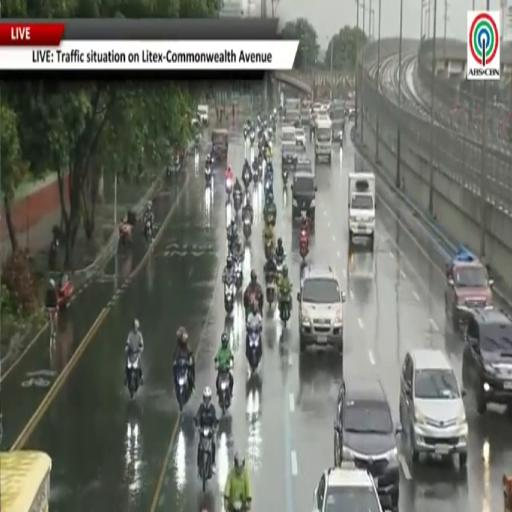bus: (0, 451, 51, 511)
car: (334, 378, 401, 509), (400, 349, 468, 468), (463, 308, 511, 414), (297, 266, 345, 354), (445, 247, 493, 329), (313, 461, 382, 511), (292, 169, 317, 221), (282, 142, 297, 172), (295, 155, 314, 174), (281, 125, 296, 145), (197, 105, 209, 125), (295, 127, 305, 147)
motorcycle: (199, 427, 214, 492), (176, 360, 190, 410), (246, 329, 261, 373), (126, 354, 140, 398), (218, 372, 231, 414), (245, 293, 263, 321), (57, 279, 73, 310), (224, 281, 235, 314), (279, 295, 290, 327), (266, 274, 276, 309), (49, 237, 59, 271), (119, 222, 133, 245), (300, 231, 308, 261), (230, 498, 248, 511), (144, 219, 153, 243), (235, 261, 242, 290), (234, 191, 242, 214), (264, 179, 273, 199), (265, 238, 273, 260), (243, 168, 251, 190), (276, 258, 284, 280), (243, 218, 251, 239), (265, 212, 276, 227), (226, 179, 233, 201), (194, 132, 201, 150), (205, 167, 212, 185), (253, 165, 259, 184), (282, 168, 288, 185), (250, 130, 256, 145), (243, 128, 248, 140)
truck: (348, 172, 375, 250), (315, 117, 332, 163), (330, 101, 345, 145), (285, 99, 301, 124)
